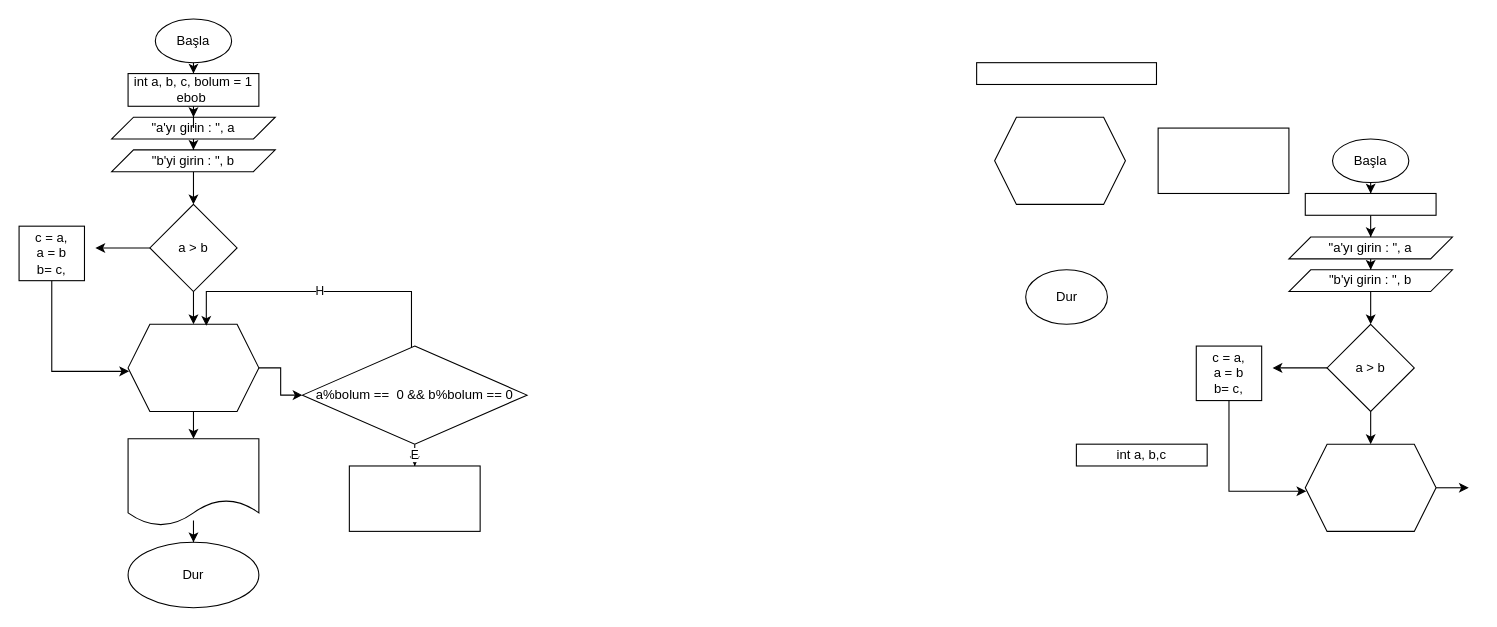
This 1497x627 diagram has some shape labels left out. The centre of each missing label's shape, as x and y in pixels:
"EBOB", ebob: the point at 193,482
bolum,a,1: the point at 1370,487
bolum,b+1,1: the point at 193,367
ebob = bolum: the point at 414,498
int a, b, c, bolum = 1: the point at 1370,203
int sayi1 = 1, toplam = 0: the point at 1066,73
sayi1,50,1: the point at 1059,160
toplam += sayi1: the point at 1223,160
